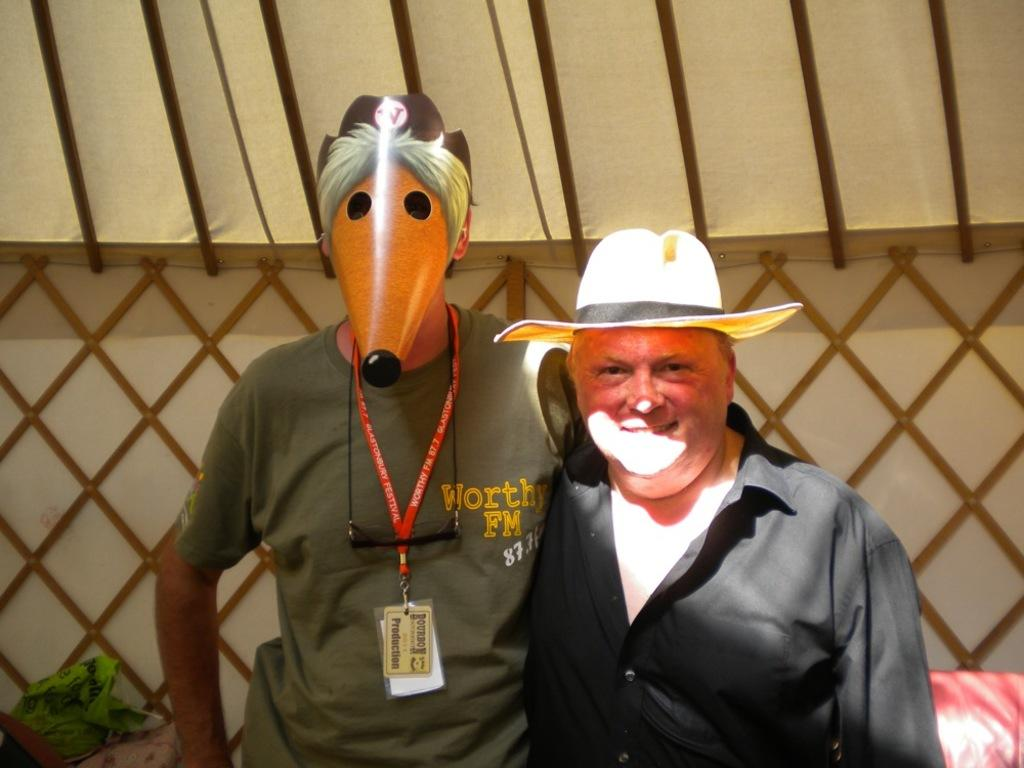Hat: (489, 228, 800, 348), (315, 93, 474, 201)
